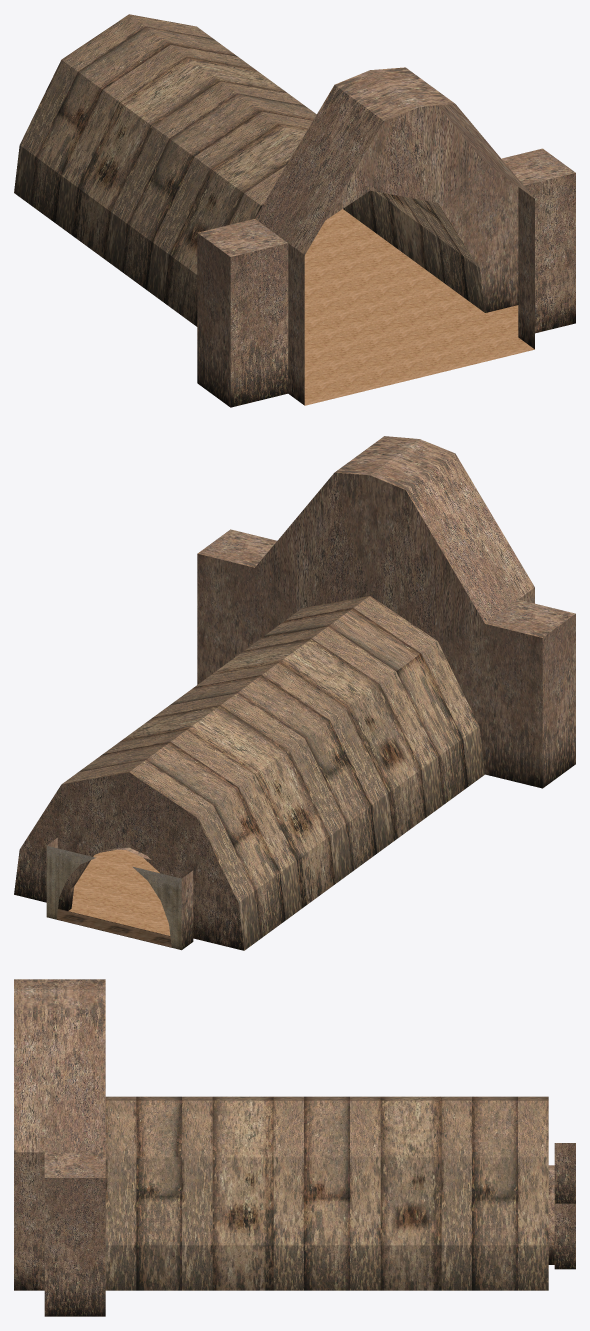
Rendered from thm_tato_jabbas_palace_r1_foyer_mesh_l3.fbx.
3 views of the same model, one above another, from view 1: azimuth 30°, elevation 25°; view 2: azimuth 150°, elevation 25°; view 3: azimuth 270°, elevation 25° (orthographic). The views are drawn at different scales.
Visible parts, largest first — view 1: mesh_node; view 2: mesh_node; view 3: mesh_node.
Boxes of the visible parts, x1,y1,x2,y2 form: mesh_node: (14, 14, 575, 407); mesh_node: (14, 436, 575, 950); mesh_node: (14, 979, 575, 1316).
Bounding box in the file's own units: 24 × 18 × 36.8.
